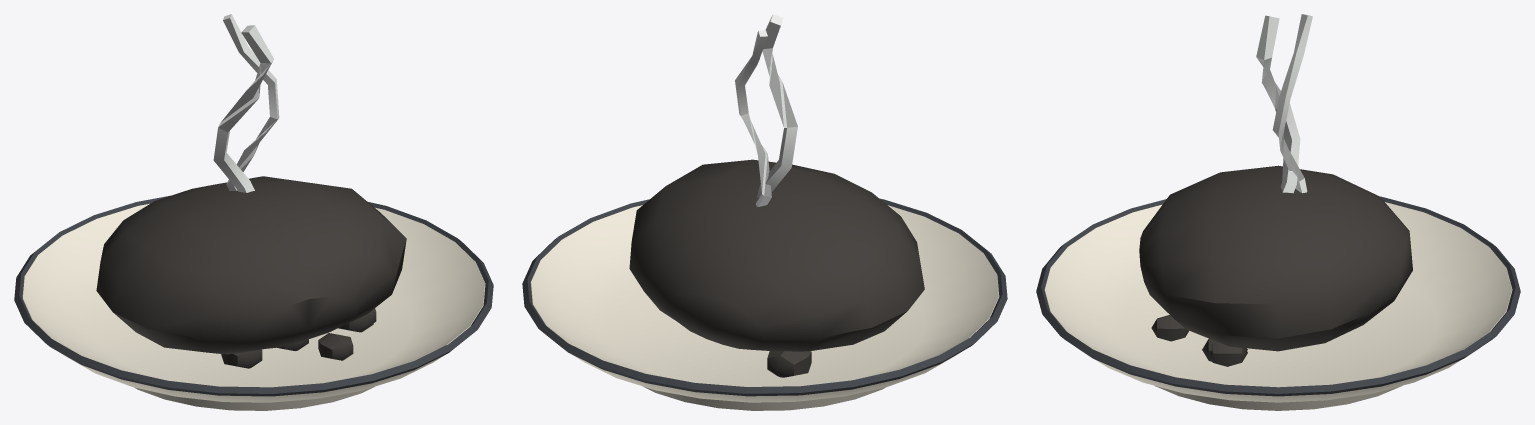
The model's file is cook_charcoal.glb.
3 renders of one model, left to right at view 1: azimuth 30°, elevation 25°; view 2: azimuth 150°, elevation 25°; view 3: azimuth 270°, elevation 25°, orthographic.
Visible parts, largest first — view 1: body; view 2: body; view 3: body.
Part boxes in pixels (box(x1,y1,x2,y2)): body: box(14, 14, 493, 410); body: box(522, 14, 1007, 410); body: box(1036, 14, 1520, 410).
Size of the model in its own units: 0.0668 by 0.0495 by 0.0668.
